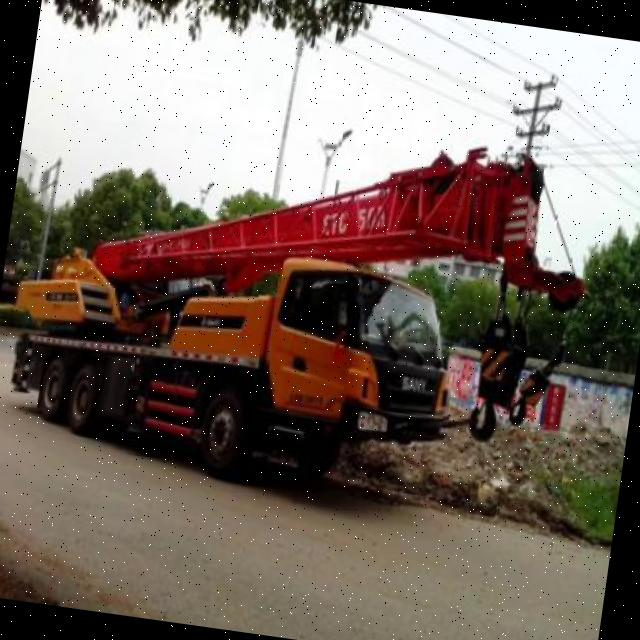Mobile Crane: (0, 87, 593, 518)
